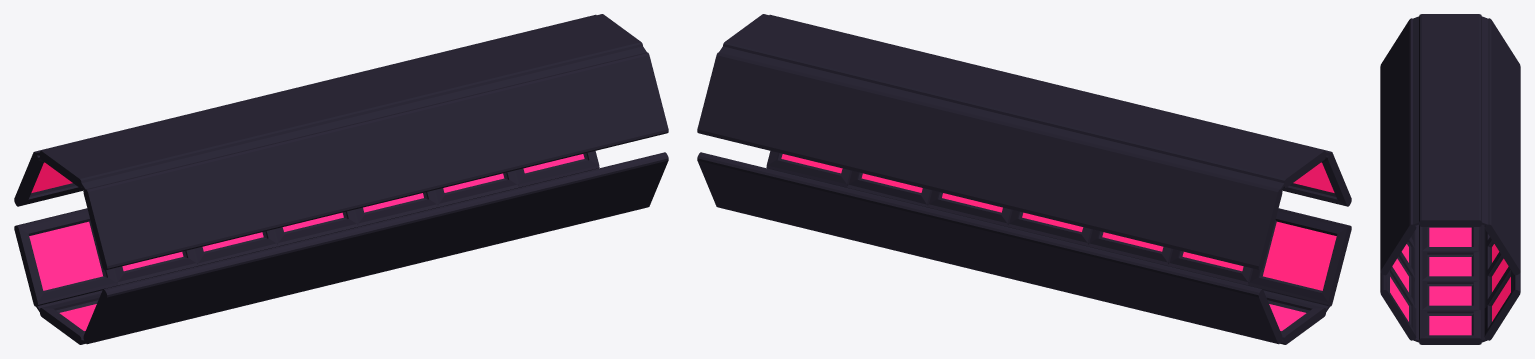
File: tunnel - Copy.fbx
The picture shows the model from 3 angles, left to right: view 1: azimuth 30°, elevation 25°; view 2: azimuth 150°, elevation 25°; view 3: azimuth 270°, elevation 25°; orthographic projection. The views are drawn at different scales.
Parts seen in each view (by area): view 1: TestTunnel.006; view 2: TestTunnel.006; view 3: TestTunnel.006.
Part boxes in pixels (left/top/right/bottom): TestTunnel.006: left=14, top=14, right=668, bottom=344; TestTunnel.006: left=697, top=14, right=1351, bottom=344; TestTunnel.006: left=1380, top=14, right=1520, bottom=344.
Size of the model in its own units: 5220 by 1474 by 1498.
